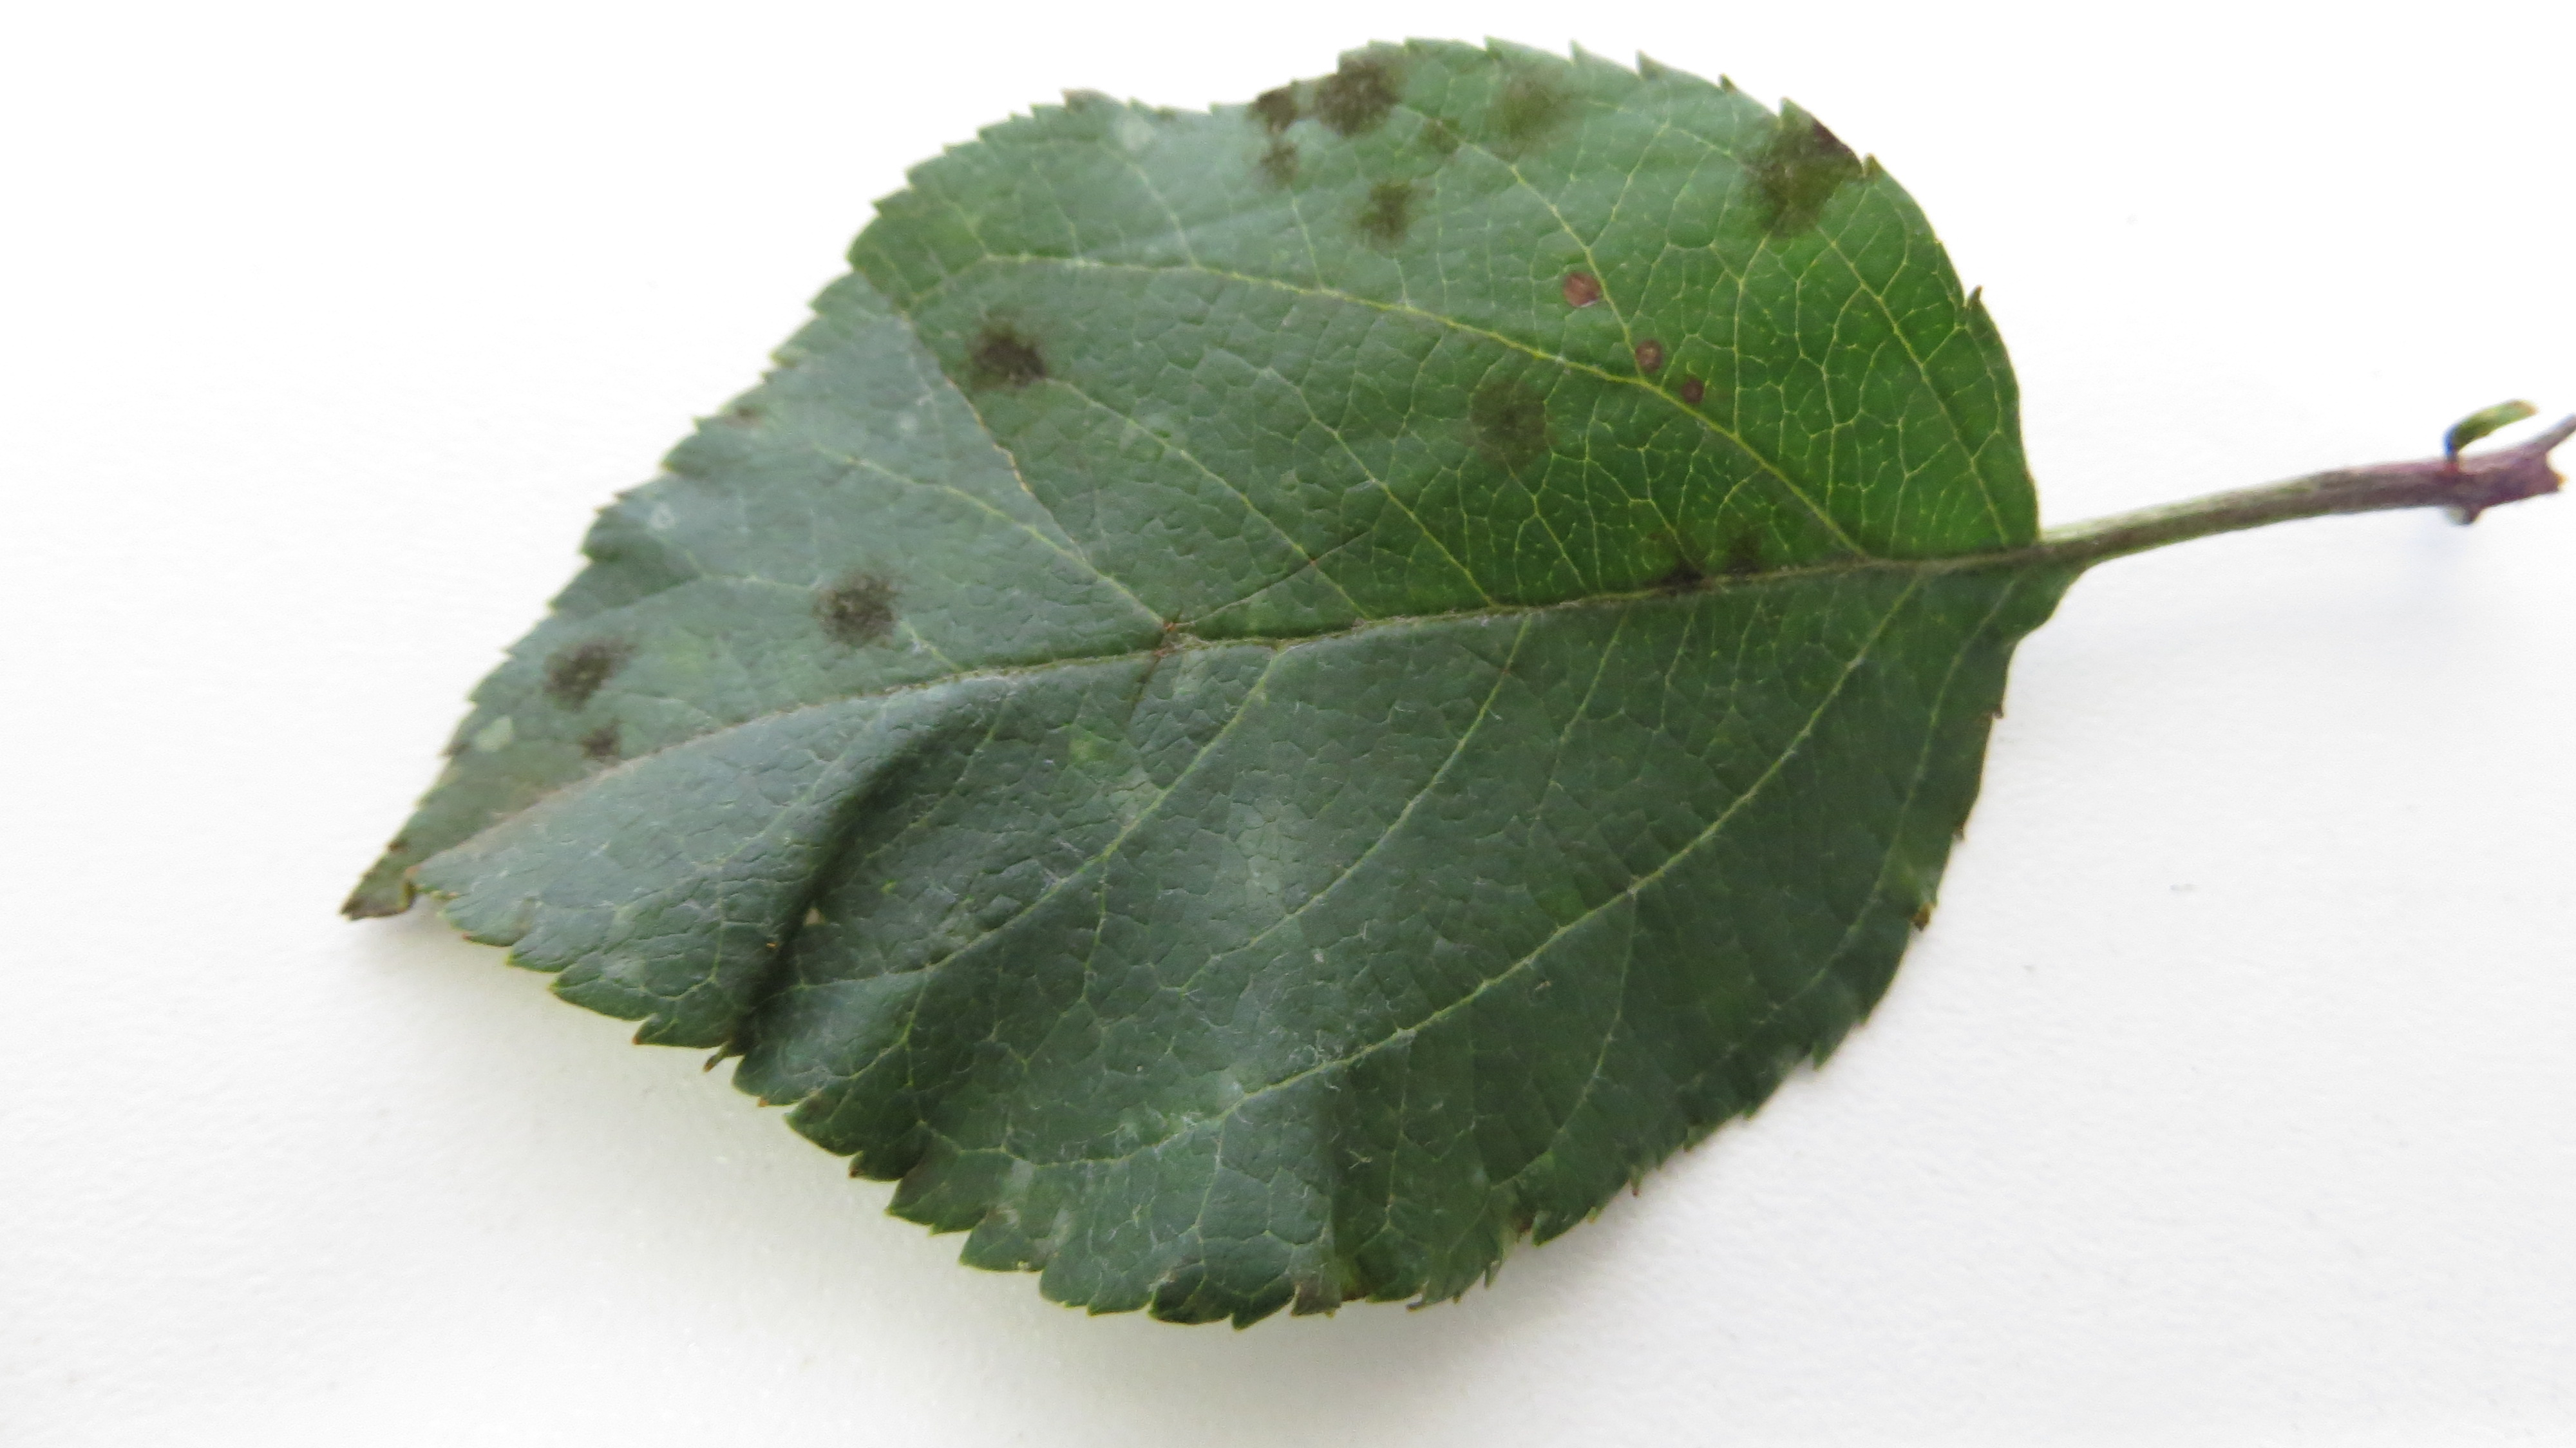sarna: (1746, 101, 1856, 244), (1463, 361, 1569, 483), (948, 319, 1074, 412), (1484, 58, 1585, 168), (1223, 782, 1307, 912), (1313, 41, 1408, 135), (1833, 528, 1937, 612), (809, 565, 913, 648), (533, 628, 646, 703), (1081, 759, 1171, 844), (1150, 598, 1217, 706), (1345, 177, 1433, 258), (1960, 535, 2058, 604), (1637, 536, 1713, 605), (1709, 513, 1776, 591), (1541, 251, 1612, 319), (1414, 113, 1479, 177), (1254, 138, 1318, 202), (1242, 74, 1302, 135), (566, 715, 632, 768), (1615, 329, 1670, 377), (1665, 370, 1707, 402)
